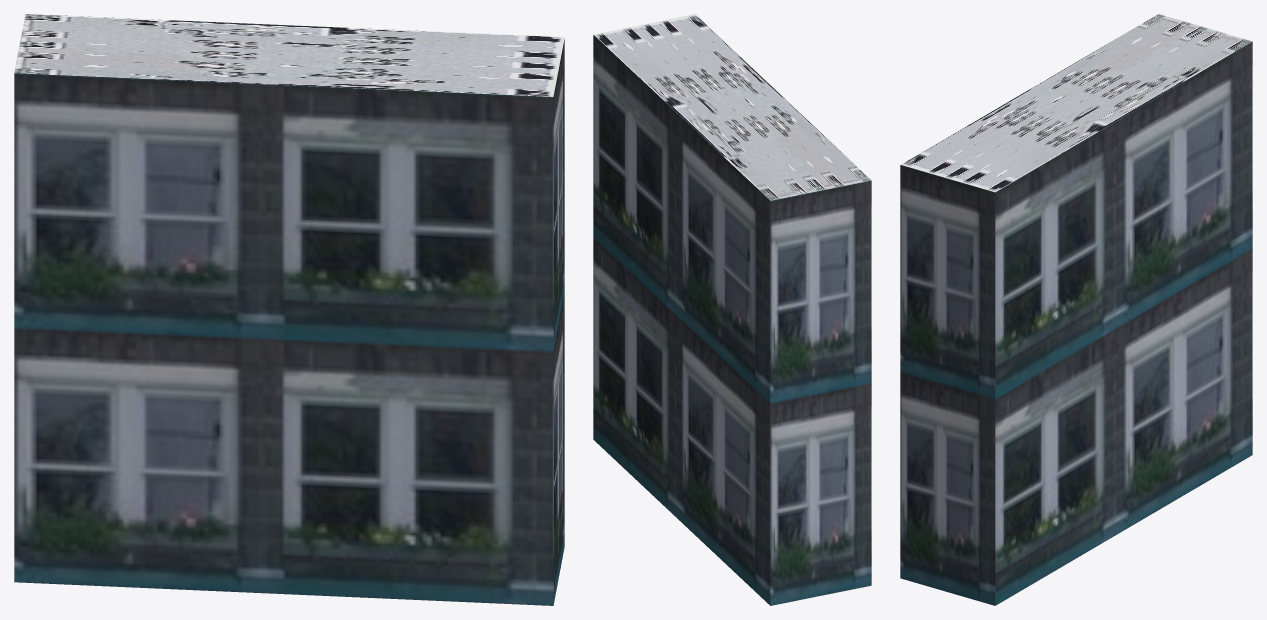
File: ResTex__3969.fbx
The picture shows the model from 3 angles, left to right: view 1: azimuth 30°, elevation 25°; view 2: azimuth 150°, elevation 25°; view 3: azimuth 270°, elevation 25°; orthographic projection. The views are drawn at different scales.
Visible parts, largest first — view 1: CityEngineMaterial_11_m, CityEngineMaterial_8_m; view 2: CityEngineMaterial_11_m, CityEngineMaterial_8_m; view 3: CityEngineMaterial_11_m, CityEngineMaterial_8_m.
Part boxes in pixels (x1,y1,x2,y2): CityEngineMaterial_11_m: (14,39,564,605); CityEngineMaterial_8_m: (14,14,564,96); CityEngineMaterial_11_m: (593,35,871,605); CityEngineMaterial_8_m: (593,14,871,200); CityEngineMaterial_11_m: (900,41,1252,605); CityEngineMaterial_8_m: (900,14,1252,192).
Bounding box in the file's own units: 5.55 × 6 × 4.64.
2 materials, 2 textured.
